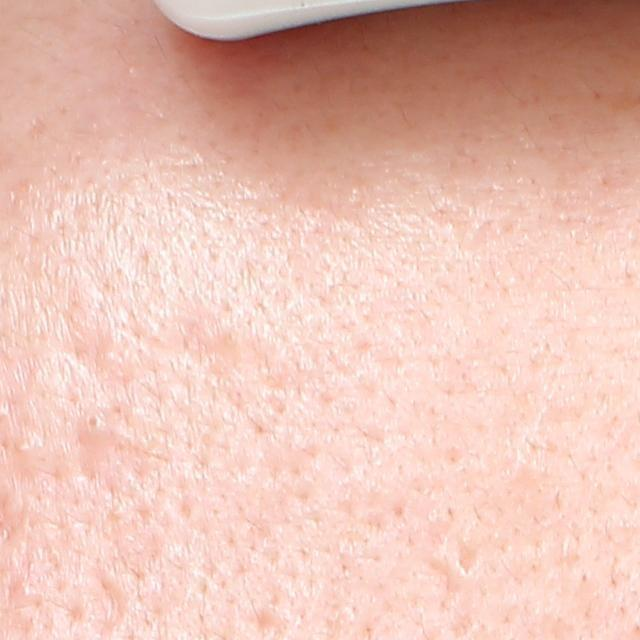atrophic_scar: (79, 560, 129, 634), (455, 537, 479, 576), (248, 608, 278, 635)
comedo: (11, 430, 44, 458), (81, 408, 108, 437)
